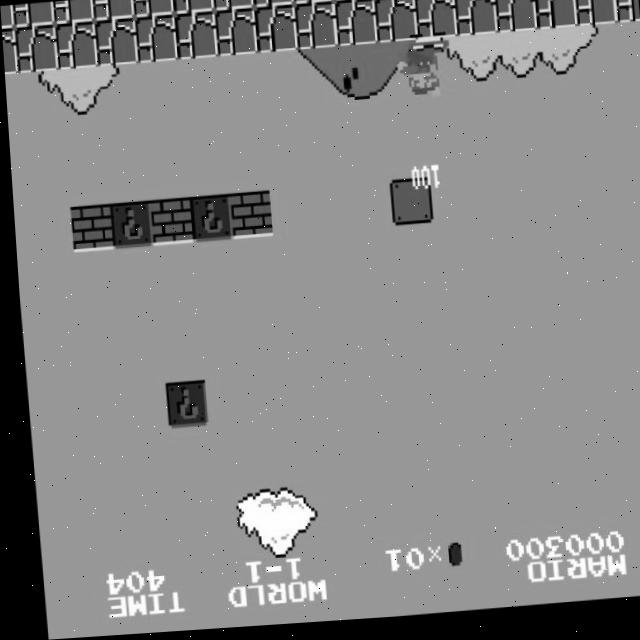1- brick_block: (226, 193, 270, 242), (146, 199, 190, 248), (66, 204, 110, 253)
11- little_mario: (394, 55, 441, 108)
13- mystery_block: (106, 201, 150, 251), (186, 196, 230, 245), (159, 382, 203, 430)
17- undestructible_block: (13, 24, 58, 73), (333, 2, 377, 51), (293, 5, 337, 54), (253, 8, 297, 57), (213, 10, 257, 59), (173, 13, 217, 62), (133, 16, 177, 65), (93, 19, 137, 68), (53, 22, 97, 71), (373, 0, 417, 48), (413, 0, 457, 45), (453, 0, 497, 43), (492, 0, 537, 40), (532, 0, 577, 37), (572, 0, 617, 34), (12, 2, 54, 28), (52, 0, 94, 25), (92, 0, 134, 22), (132, 0, 174, 20), (613, 0, 639, 31), (1, 27, 18, 74), (172, 0, 214, 17), (212, 0, 254, 14), (252, 0, 294, 11), (291, 0, 333, 8), (0, 5, 13, 28), (331, 0, 373, 6), (371, 0, 413, 3)
3- empty_block: (386, 182, 430, 231)
